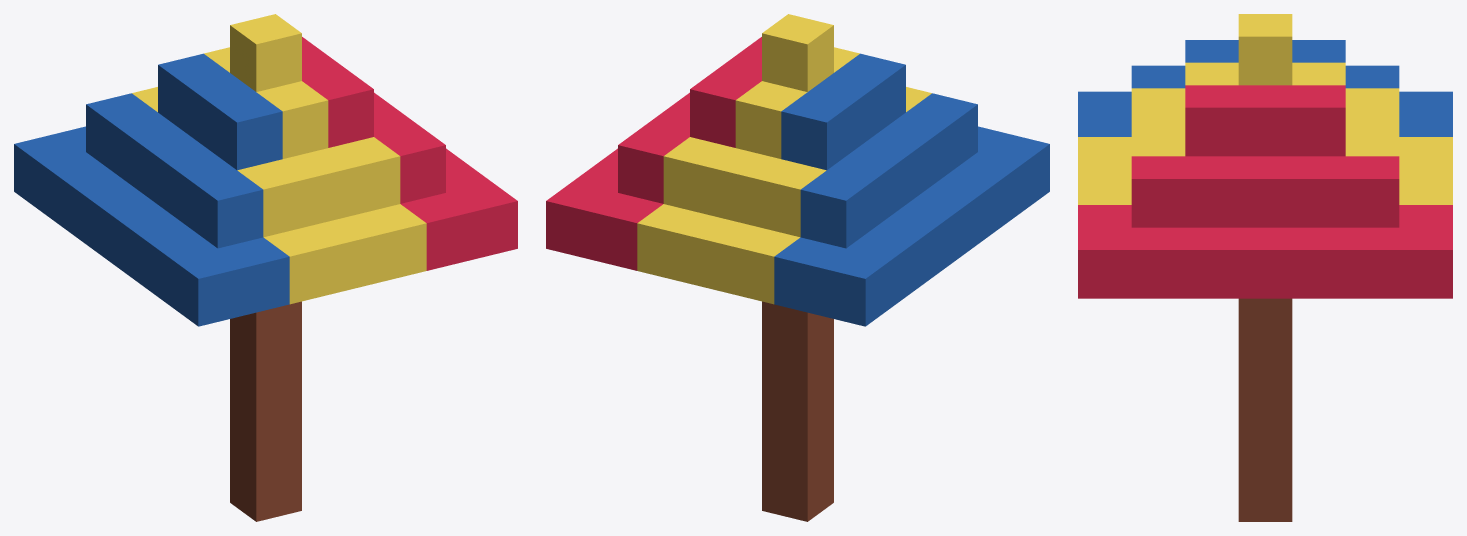
File: sun-umbrella.obj
3 views of the same model, side by side, from view 1: azimuth 30°, elevation 25°; view 2: azimuth 150°, elevation 25°; view 3: azimuth 270°, elevation 25° (orthographic).
Size of the model in its own units: 7 by 10 by 7.
1 material, 1 textured.
